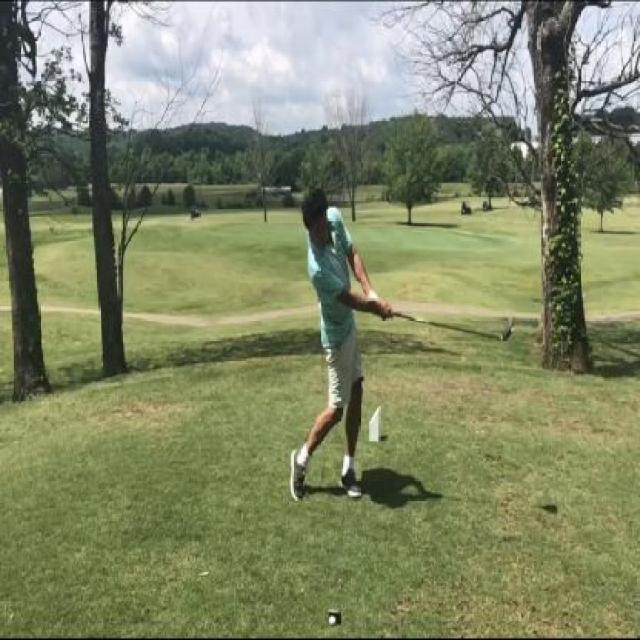club head: (493, 315, 516, 343)
